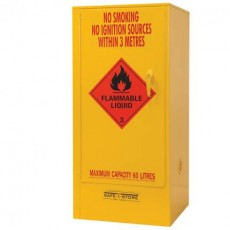FlammableLiquid: (91, 58, 154, 127)
